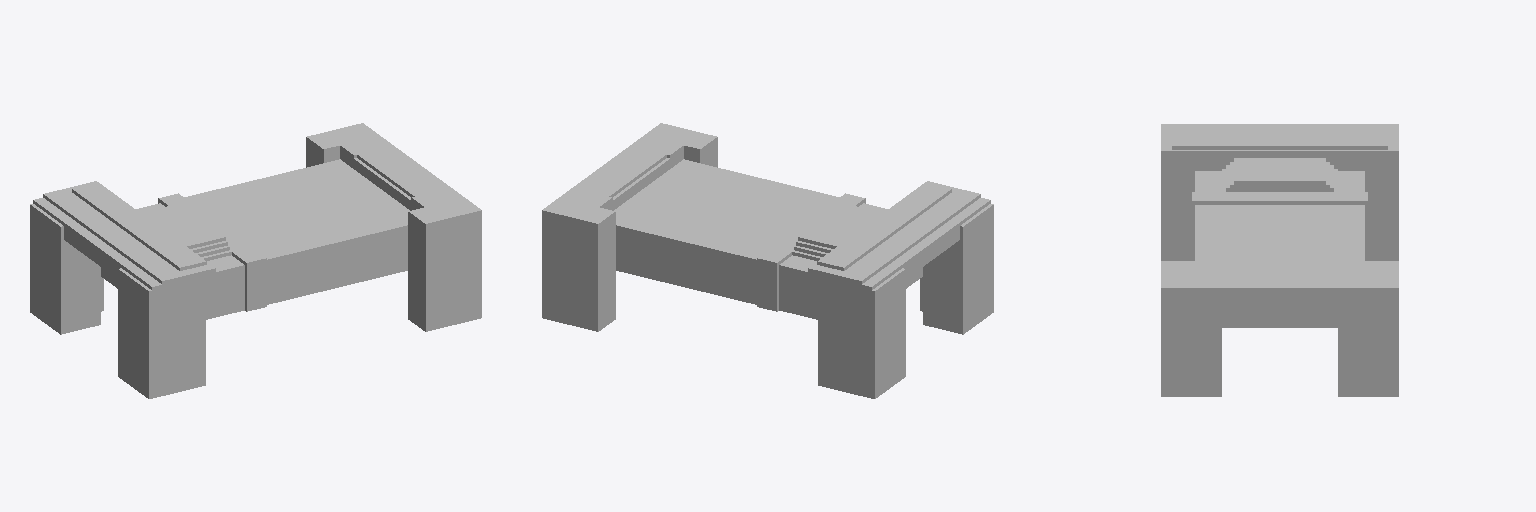
File: bed.obj
3 views of the same model, side by side, from view 1: azimuth 30°, elevation 25°; view 2: azimuth 150°, elevation 25°; view 3: azimuth 270°, elevation 25° (orthographic).
Parts seen in each view (by area): view 1: pl0; view 2: pl0; view 3: pl0.
Part boxes in pixels (left/top/right/bottom): pl0: left=30, top=123, right=481, bottom=398; pl0: left=542, top=123, right=993, bottom=398; pl0: left=1161, top=124, right=1398, bottom=396.
Bounding box in the file's own units: 10 × 3.4 × 6.2.